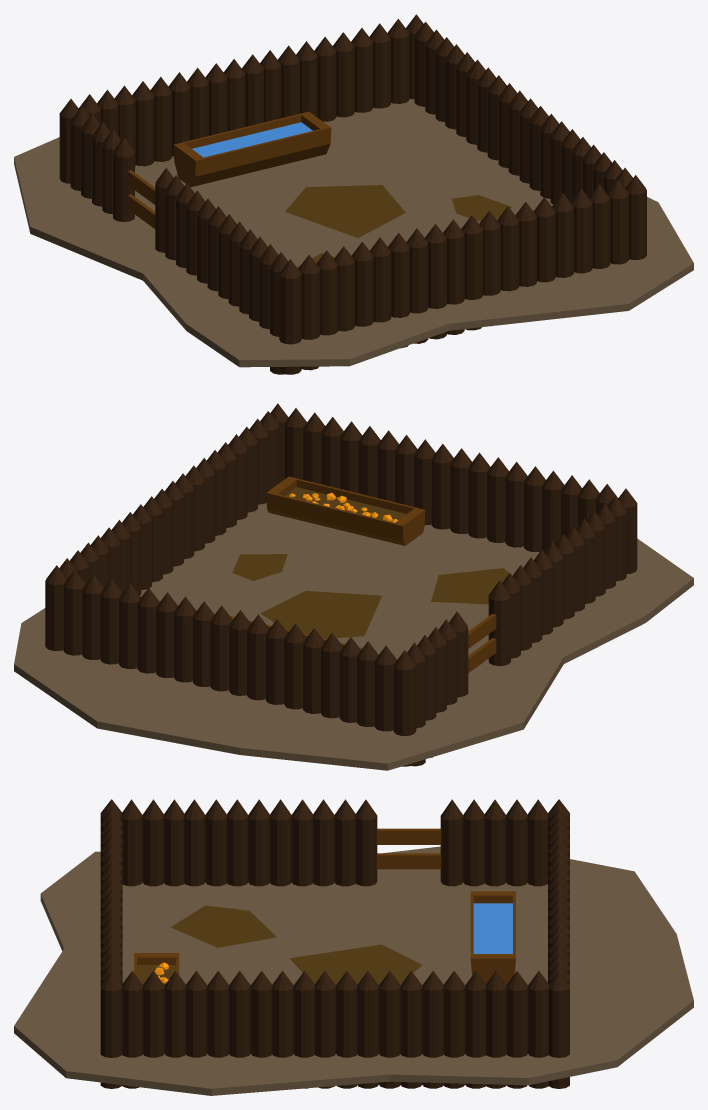
File: PigPenFinal.fbx
3 renders of one model, top to bottom at view 1: azimuth 30°, elevation 25°; view 2: azimuth 150°, elevation 25°; view 3: azimuth 270°, elevation 25°, orthographic.
Parts seen in each view (by area): view 1: Plane.019; view 2: Plane.019; view 3: Plane.019.
Boxes of the visible parts, x1=… form: Plane.019: x1=14, y1=14, x2=693, y2=374; Plane.019: x1=14, y1=403, x2=693, y2=770; Plane.019: x1=14, y1=799, x2=693, y2=1095.
Bounding box in the file's own units: 68.19 × 15.55 × 79.36.
